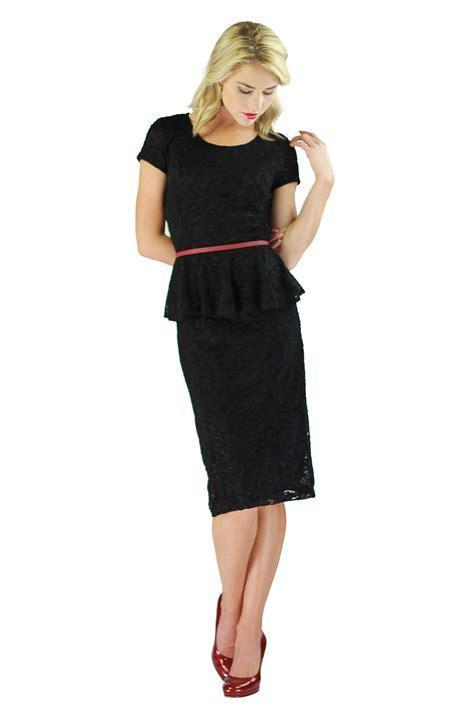dress: (136, 112, 316, 518)
